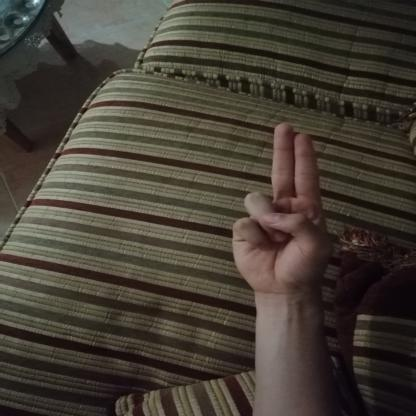TA: (216, 111, 344, 302)
